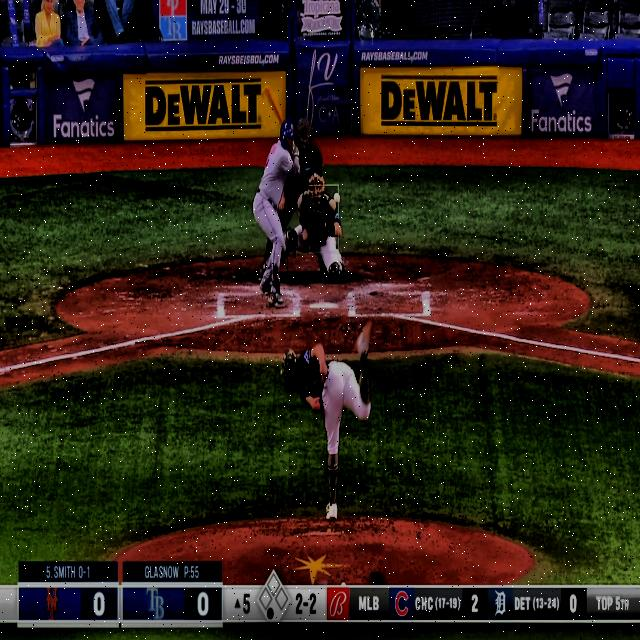baseball: (334, 192, 341, 204)
